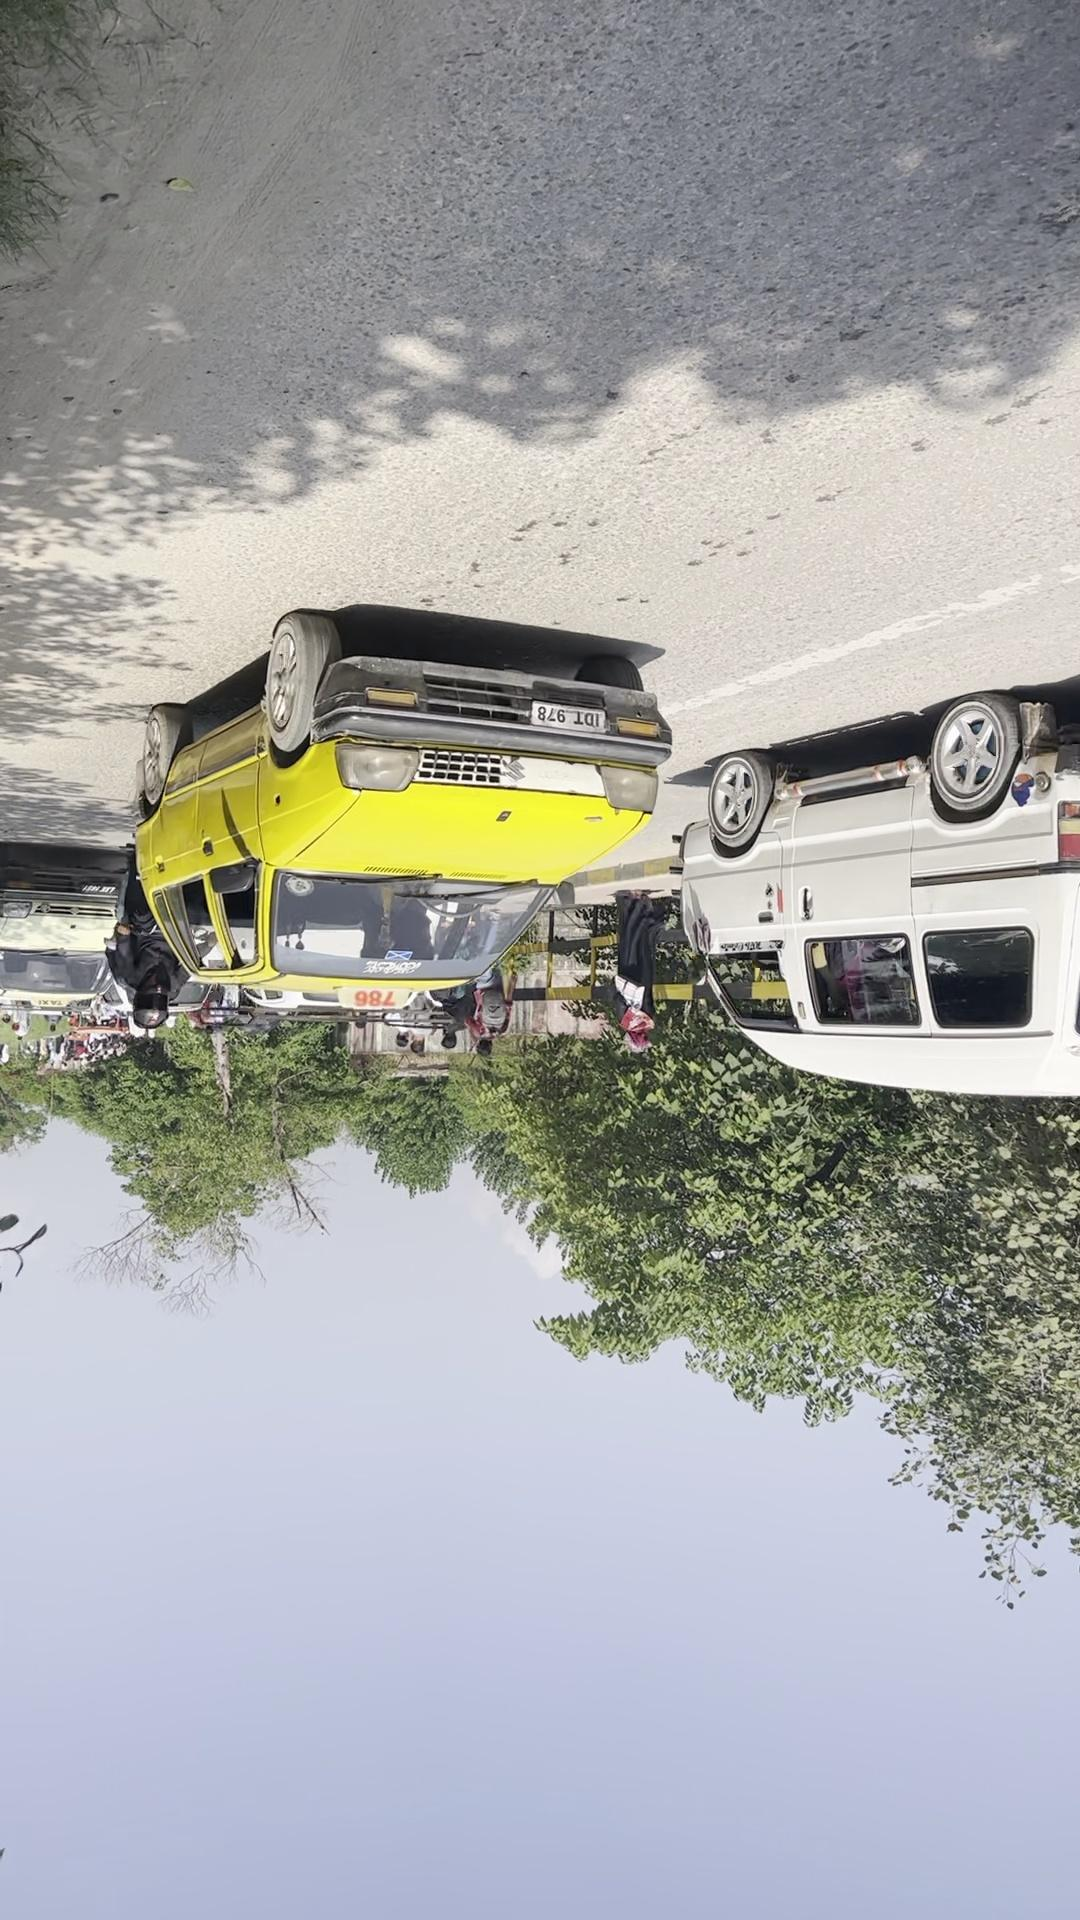windshield: (521, 927, 806, 1065)
